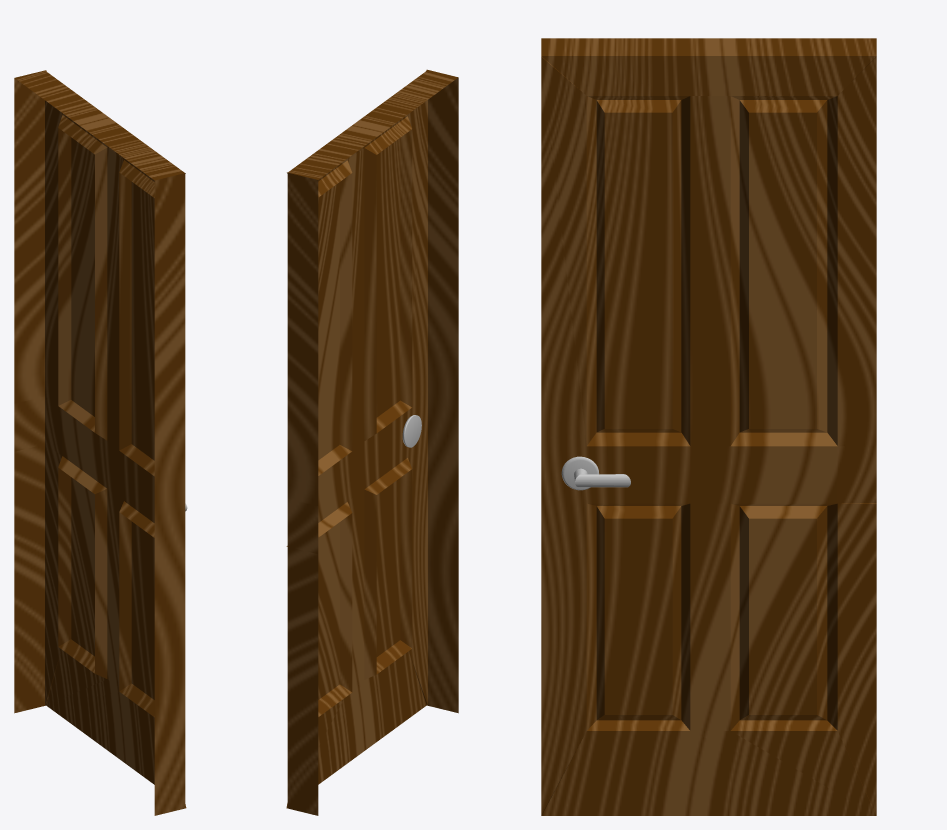
Rendered from Door#3 Version #2.fbx.
3 renders of one model, left to right at view 1: azimuth 30°, elevation 25°; view 2: azimuth 150°, elevation 25°; view 3: azimuth 270°, elevation 25°, orthographic. The views are drawn at different scales.
Parts seen in each view (by area): view 1: Plane.001; view 2: Plane.001, Cylinder; view 3: Plane.001, Cylinder.001.
Boxes of the visible parts, x1,y1,x2,y2 form: Plane.001: [14, 70, 186, 815]; Plane.001: [286, 69, 458, 815]; Cylinder: [402, 415, 421, 447]; Plane.001: [541, 38, 876, 815]; Cylinder.001: [574, 468, 630, 487].
Bounding box in the file's own units: 65.77 × 898 × 452.
